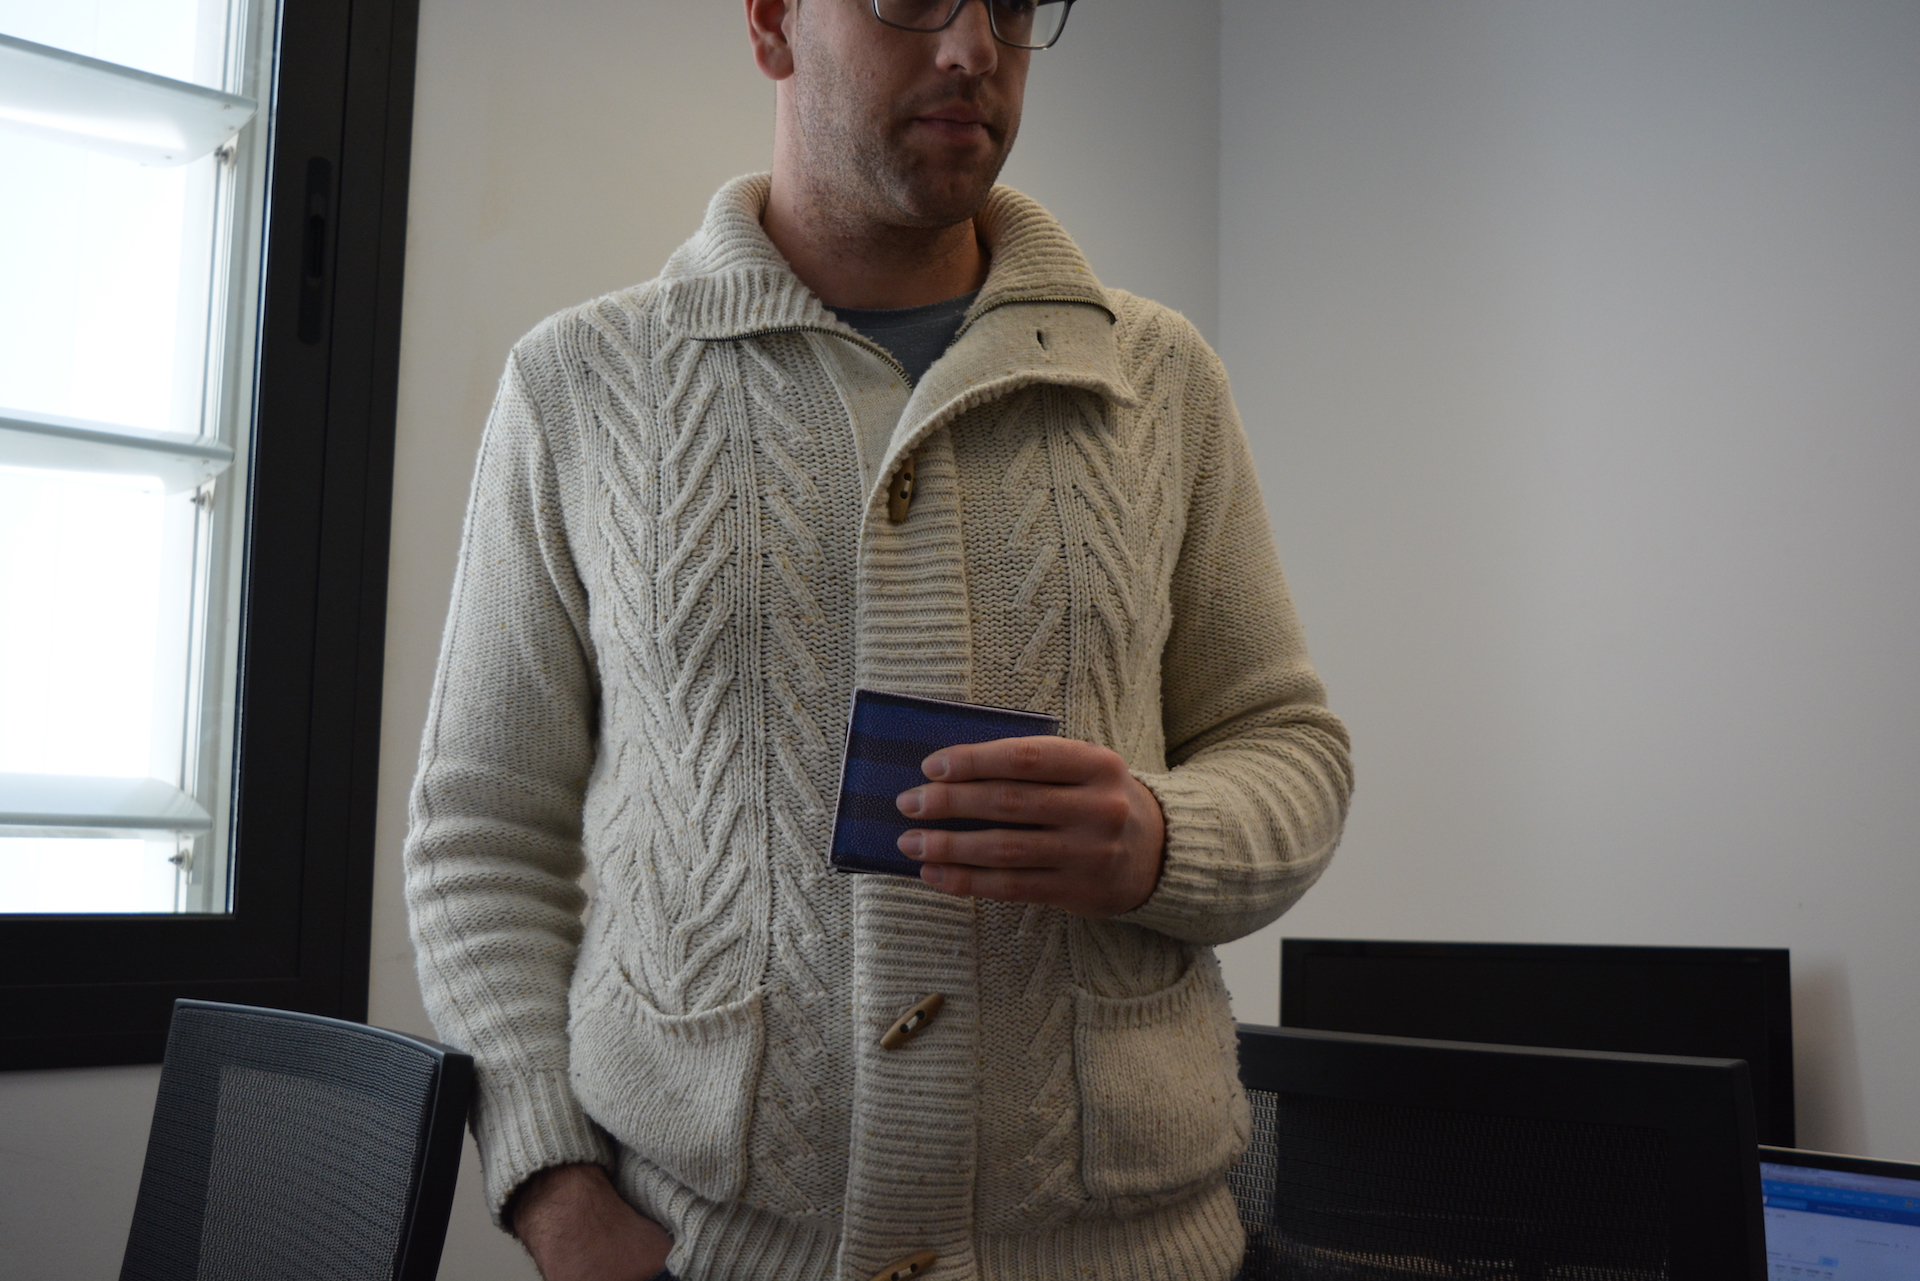monedero: (826, 685, 1065, 882)
